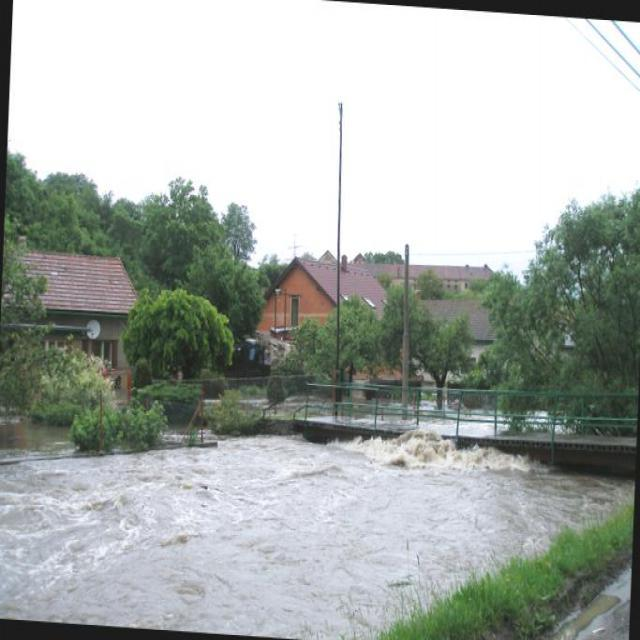flood: (0, 376, 629, 639)
